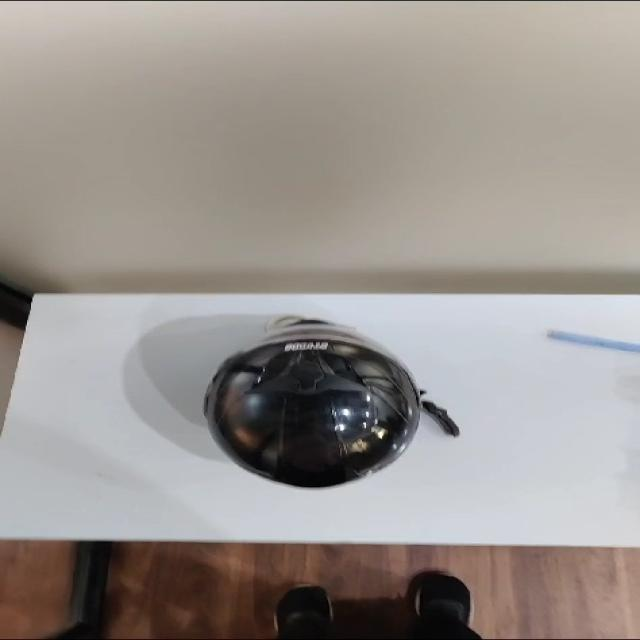helmet: (204, 316, 458, 486)
